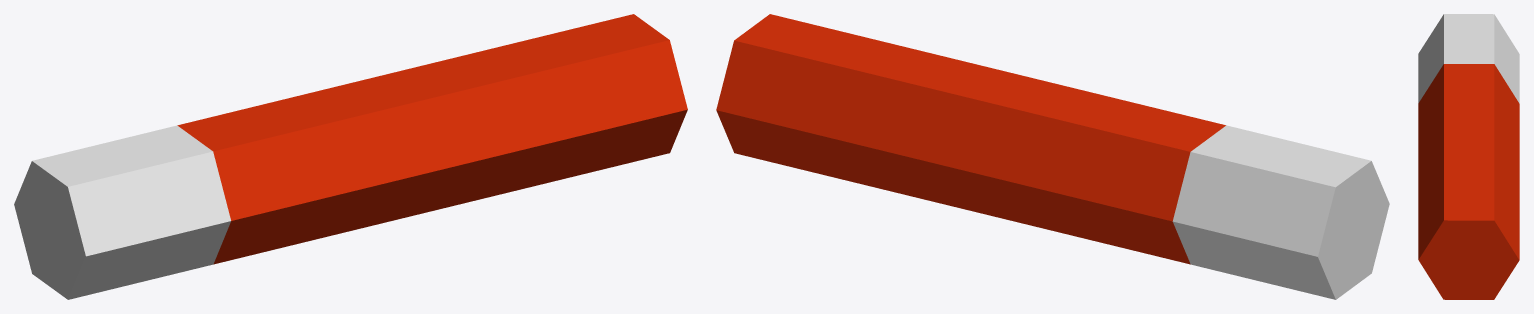
Rendered from Flare.fbx.
The picture shows the model from 3 angles, left to right: view 1: azimuth 30°, elevation 25°; view 2: azimuth 150°, elevation 25°; view 3: azimuth 270°, elevation 25°; orthographic projection. The views are drawn at different scales.
Visible parts, largest first — view 1: Flare; view 2: Flare; view 3: Flare.
Boxes of the visible parts, bbox=[...] form: Flare: bbox=[14, 14, 687, 299]; Flare: bbox=[716, 14, 1389, 299]; Flare: bbox=[1418, 14, 1519, 299].
Size of the model in its own units: 0.145 by 0.026 by 0.03.
